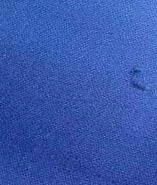knot: (128, 66, 149, 91)
